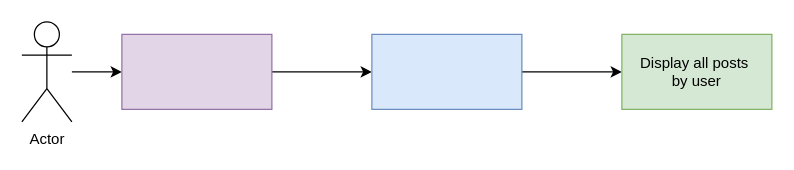
The diagram is 794 pixels wide and 170 high, and some of its shapes have lost their labels. Here are the shapes that lost their labels. From the top down, the box of each, then its label:
(121, 33, 272, 109): Navigates to EnviClean patron page with all posts
(371, 33, 522, 109): User clicks on "My Posts" button
